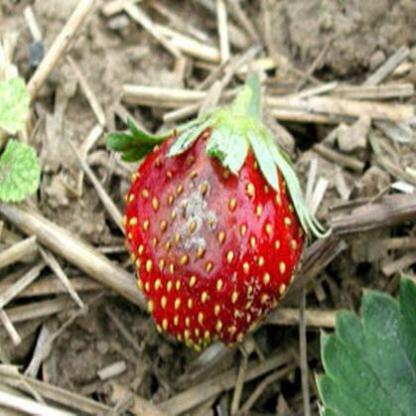Strawberry_Gray_Mold: (140, 127, 252, 280)
